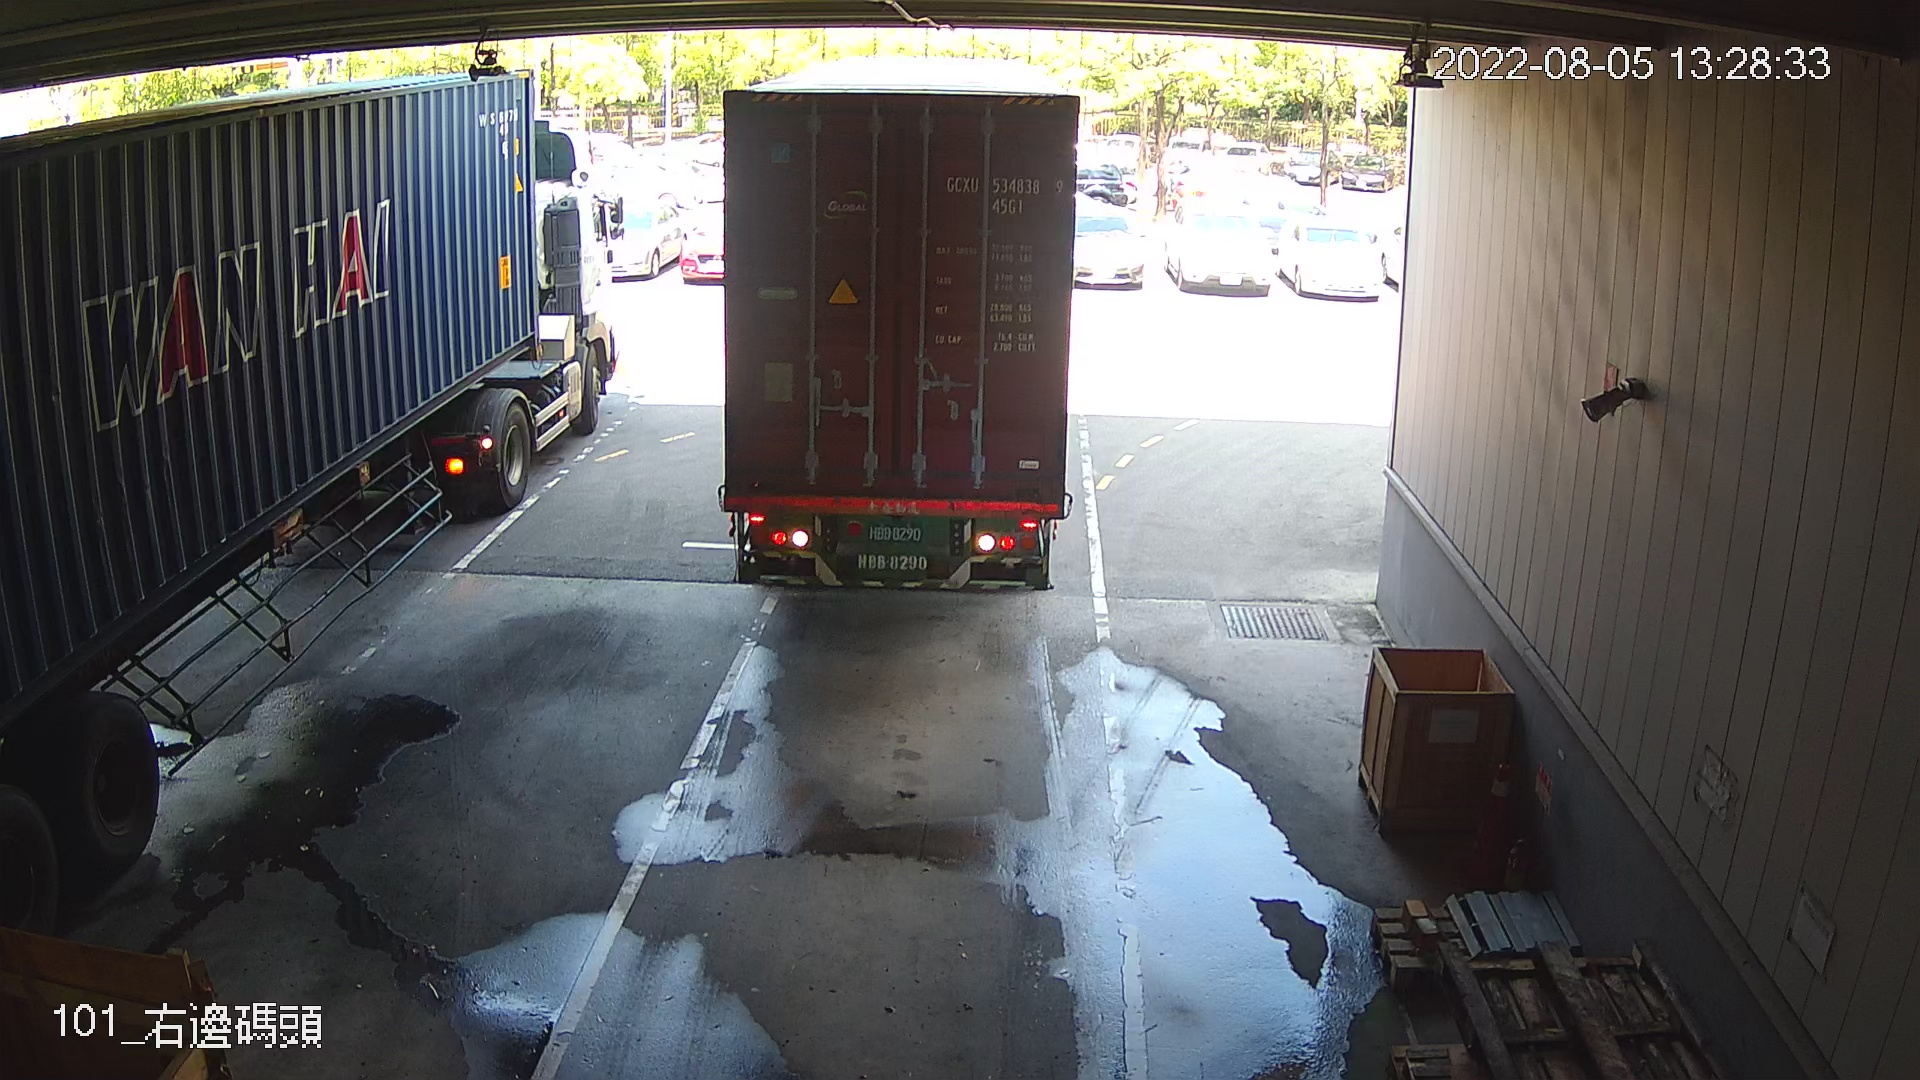container: (939, 164, 1072, 225)
